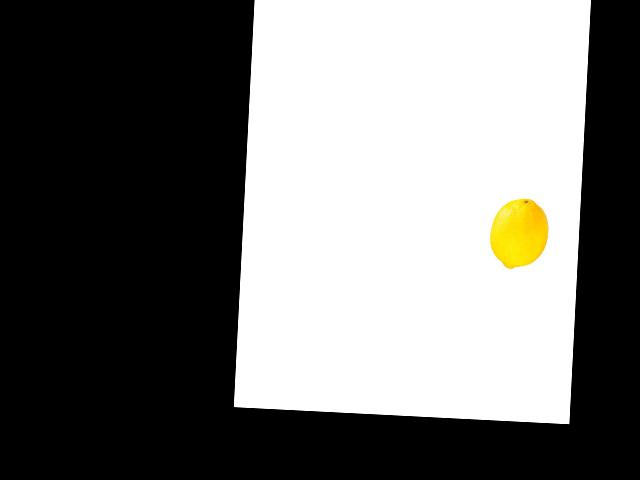lemon: (486, 195, 550, 272)
